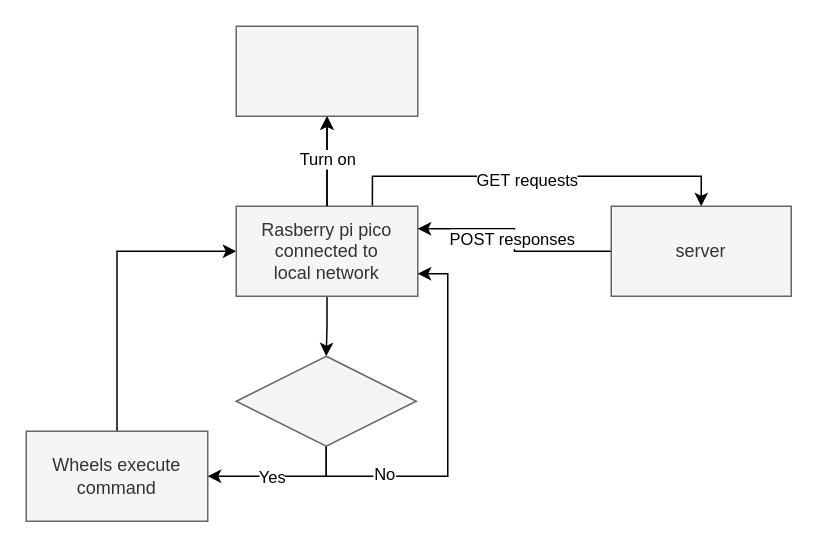
Image size: 818x548. Some labels were removed from this diagram. Here are the shapes that lost their labels. From the top down, the centre of each, then its label:
At point (326, 70): "LEDs".
At point (325, 400): "Received command?".
